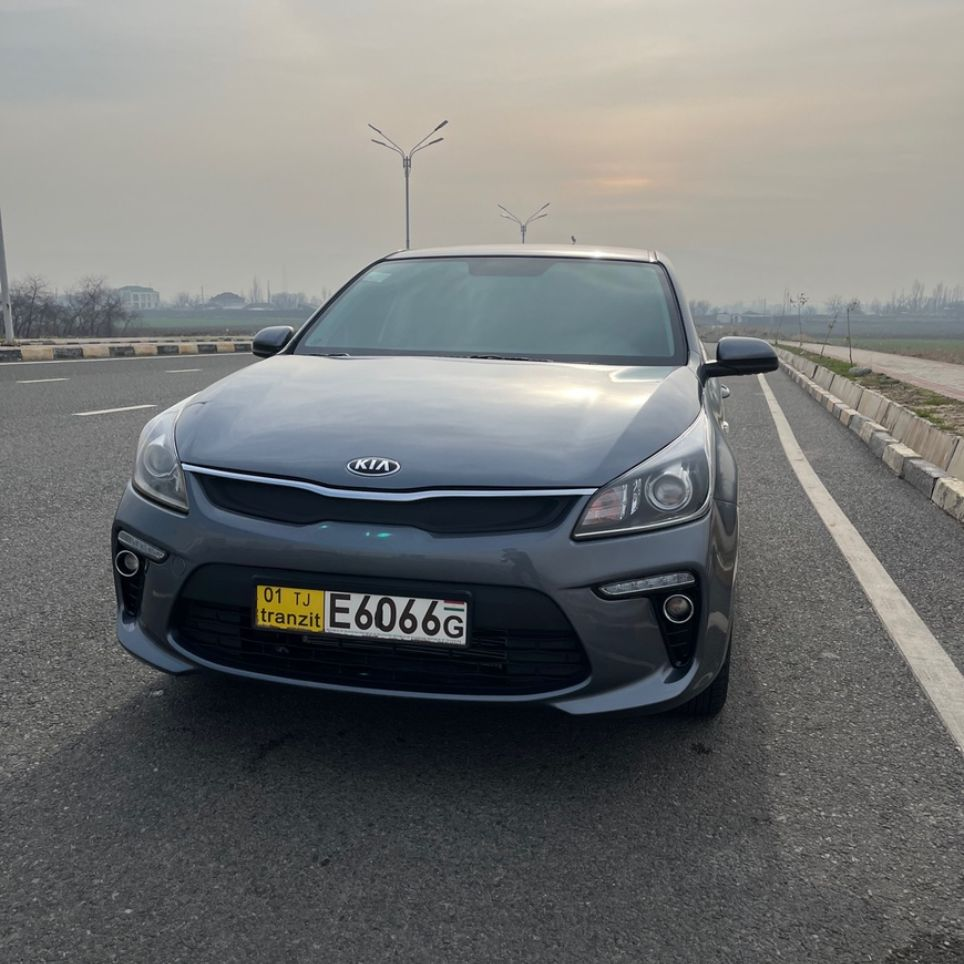license plate: (250, 575, 472, 659)
truck: (103, 237, 793, 746)
